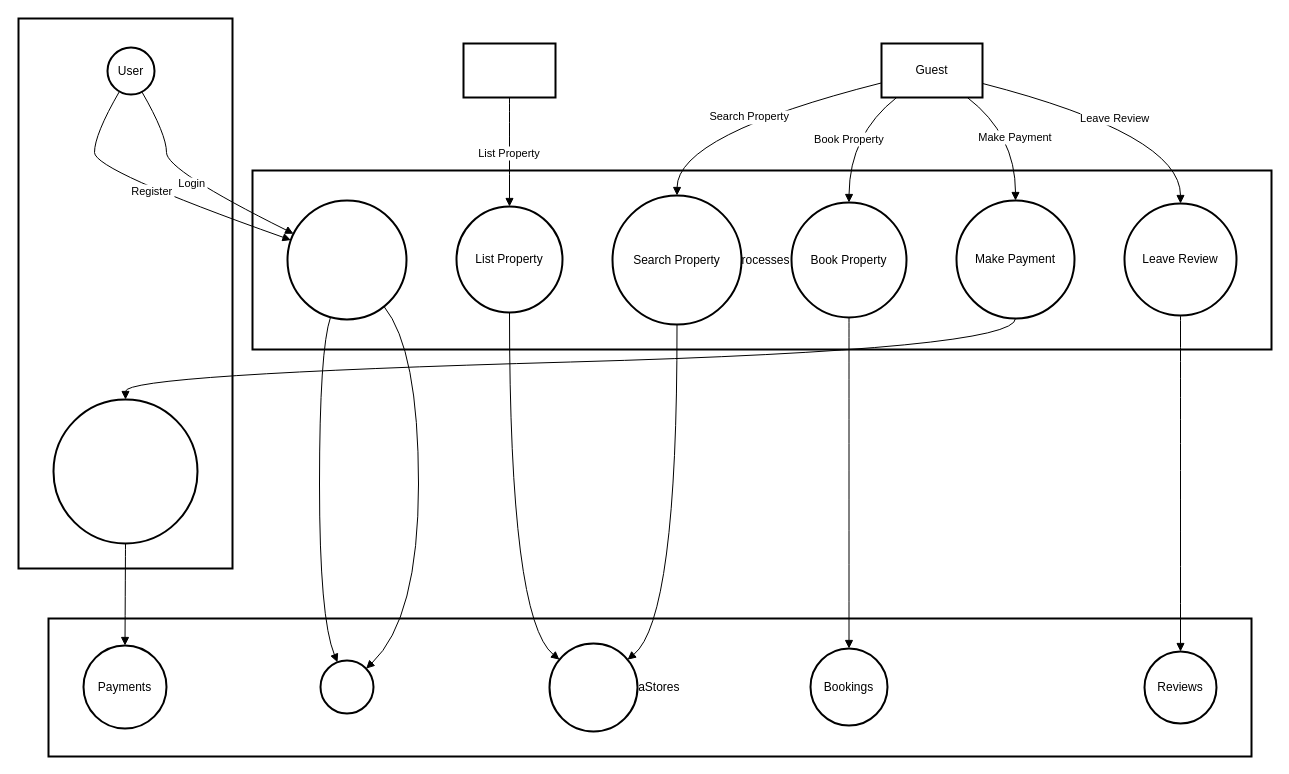
This 1289x774 diagram has some shape labels left out. The shapes that lost their labels are listed below. From the top down, each one's box as (x1, y1, x2, y2) in pixels, then its label:
(462, 42, 556, 98): Host
(286, 199, 407, 320): Register/Login
(17, 17, 233, 569): External Entities
(52, 398, 198, 544): Payment Gateway
(319, 659, 374, 714): Users
(548, 642, 638, 732): Properties
